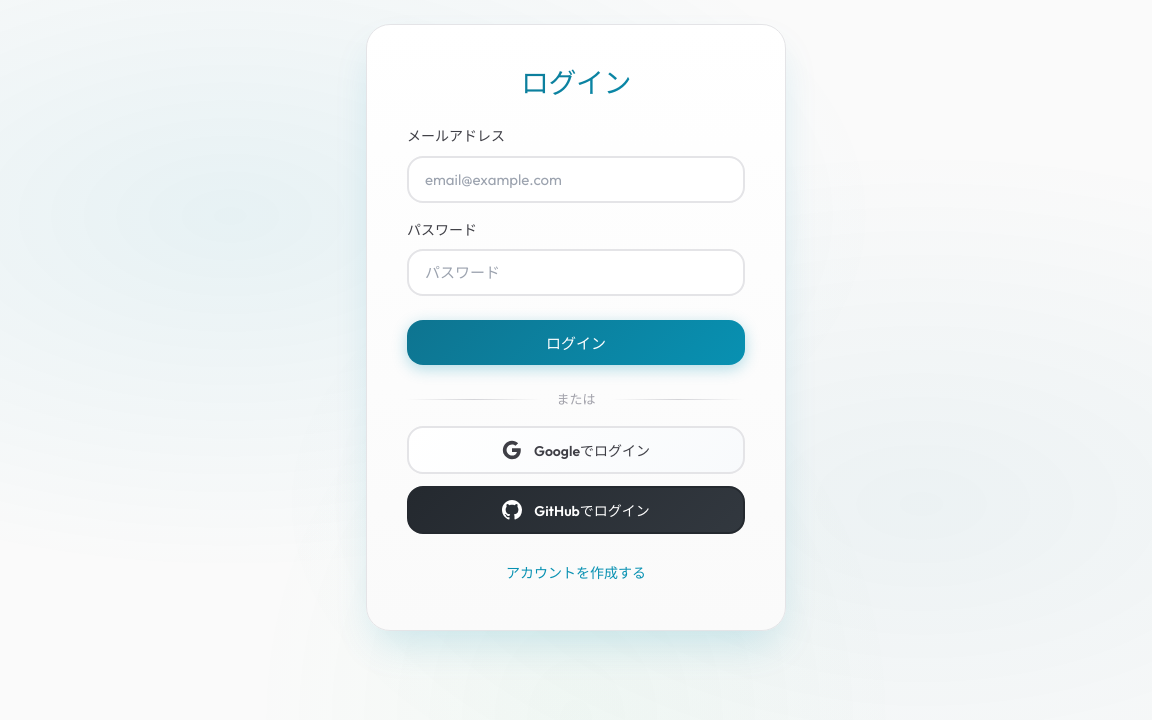
Scenario: LoginPage › toggle between login and sign up › should switch back to login mode when toggle button is clicked in sign up mode
# Switch to sign up
Click the button "アカウントを作成する" at (576, 572), box 498,554 -> 654,590
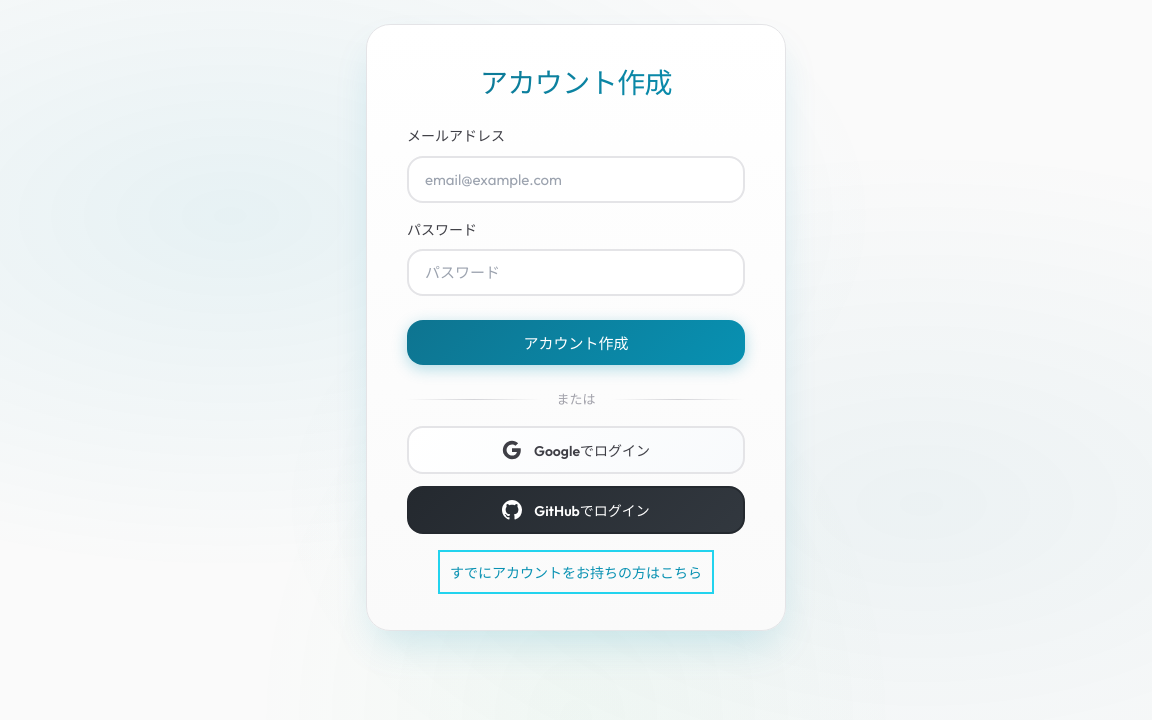
Click the button "すでにアカウントをお持ちの方はこちら" at (576, 572), box 442,554 -> 710,590
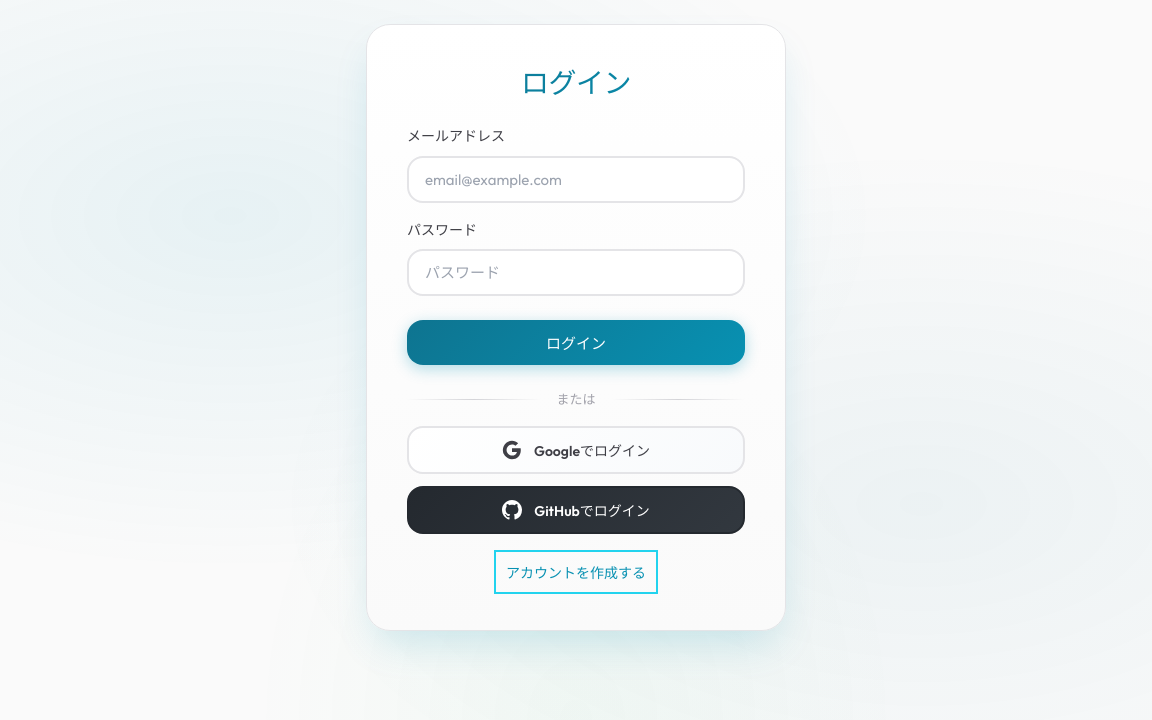
Expected: the heading "ログイン" is shown, 407,65 -> 745,101
Expected: the button "ログイン" is shown, 407,320 -> 745,365
